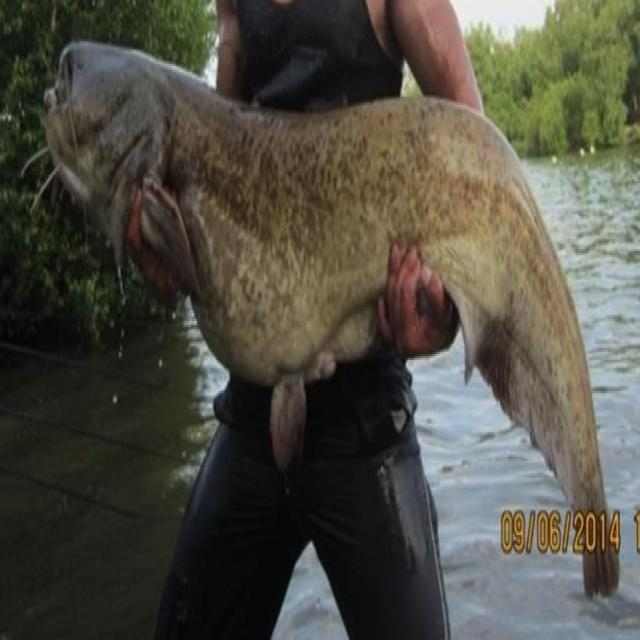Catfish: (31, 28, 623, 628)
